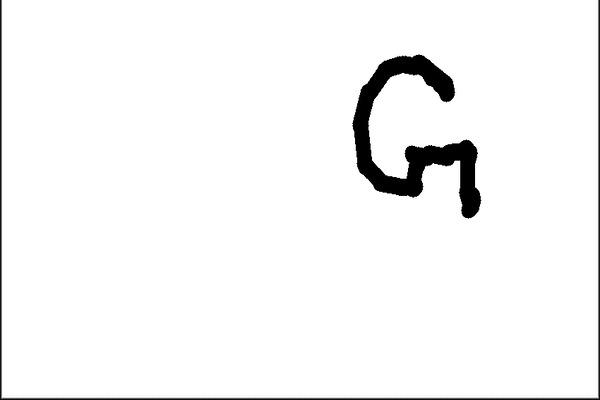G: (348, 50, 486, 223)
